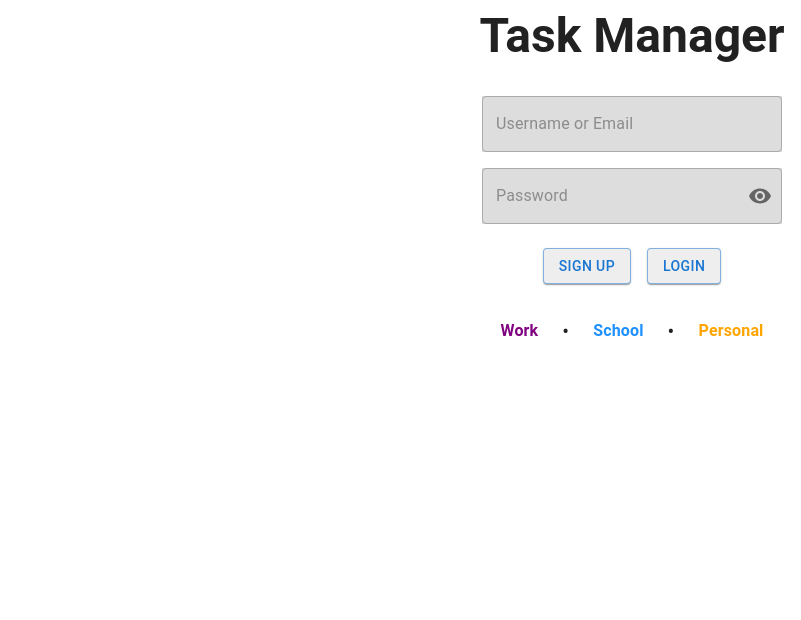
Test case: LoginPage Tests › shows success message on successful login
Type "test@example.com" into the field with placeholder "Username or Email" at (632, 124), box 482,96 -> 782,152
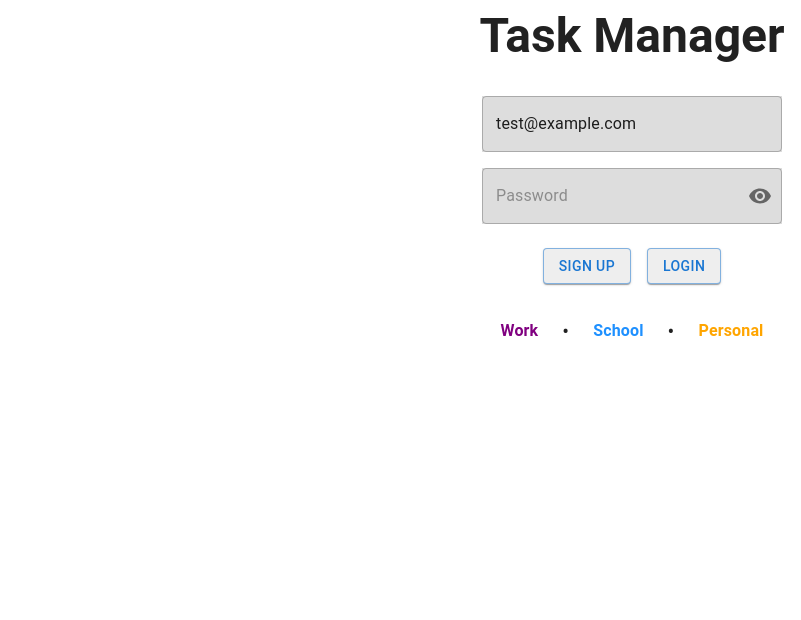
Type "password123" into the password field with placeholder "Password" at (607, 196), box 482,168 -> 732,224
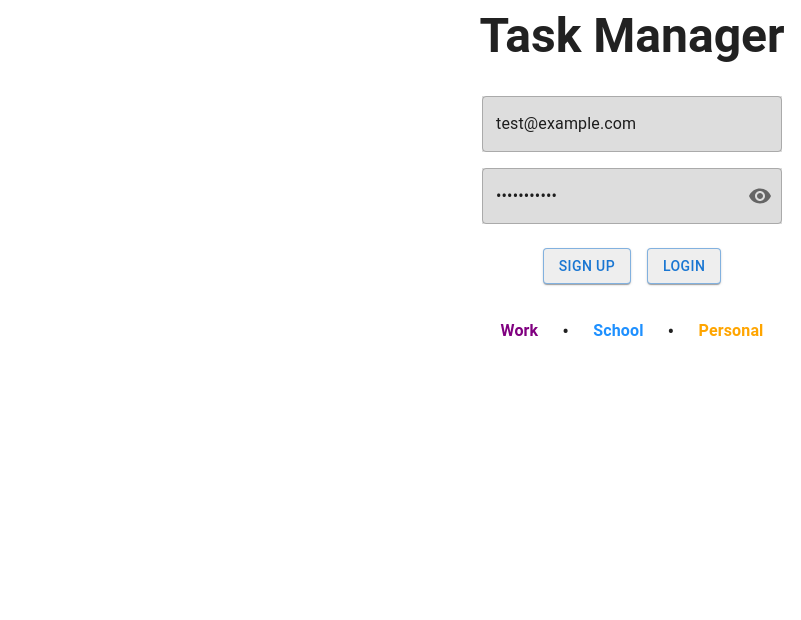
Click the button "Login" at (684, 266), box 647,248 -> 721,284
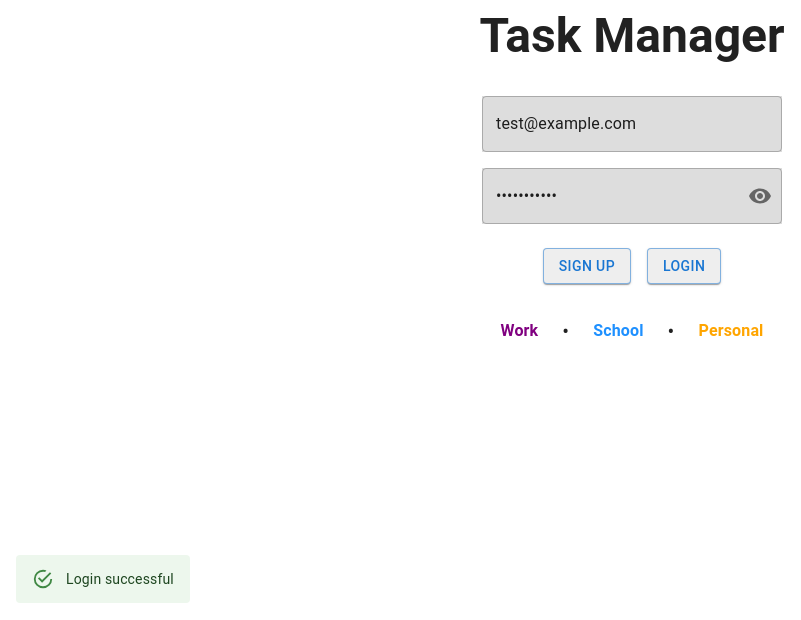
Expected: the text "Login successful" is shown, 66,571 -> 174,587
